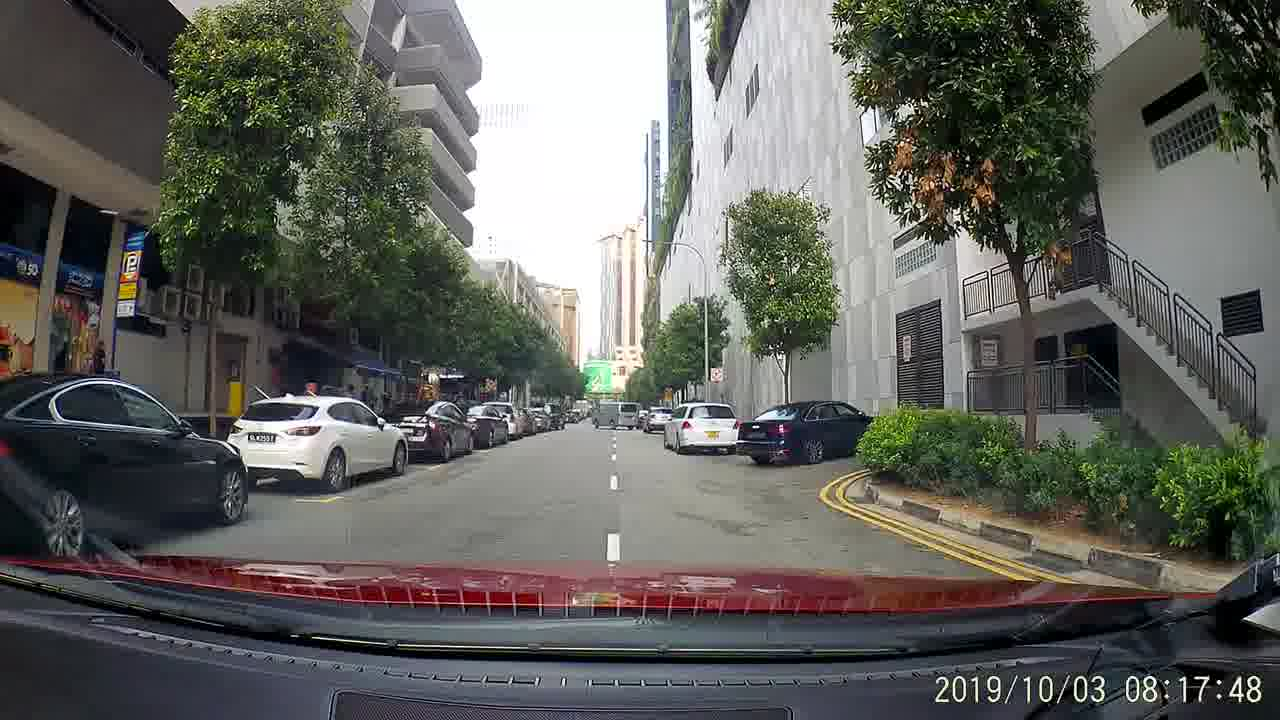car: (2, 368, 246, 556), (221, 386, 408, 497), (740, 406, 880, 463), (375, 398, 475, 464), (661, 401, 744, 455), (459, 405, 508, 447), (485, 399, 527, 438), (639, 406, 679, 432)
